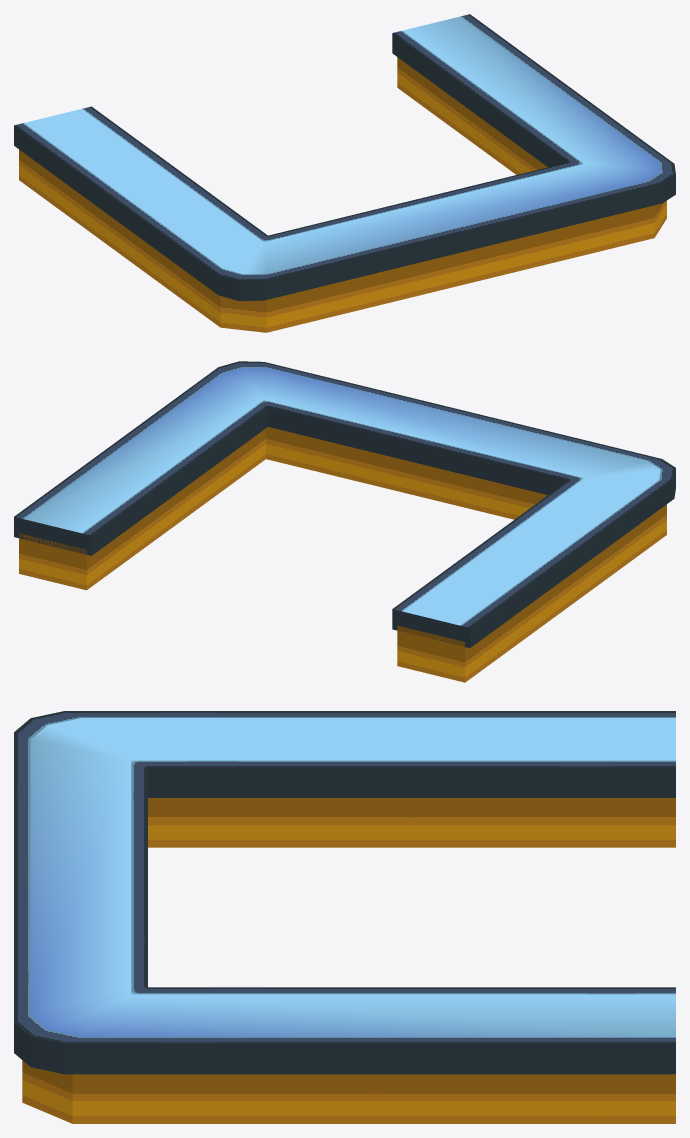
3 renders of one model, top to bottom at view 1: azimuth 30°, elevation 25°; view 2: azimuth 150°, elevation 25°; view 3: azimuth 270°, elevation 25°, orthographic. The views are drawn at different scales.
Bounding box in the file's own units: 5.88 × 0.6875 × 4.94.
2 materials, 2 textured.
